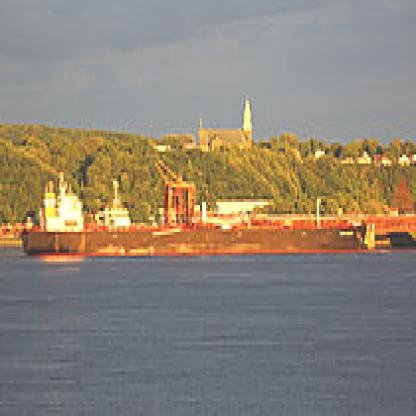Tanker: (34, 178, 378, 276)
